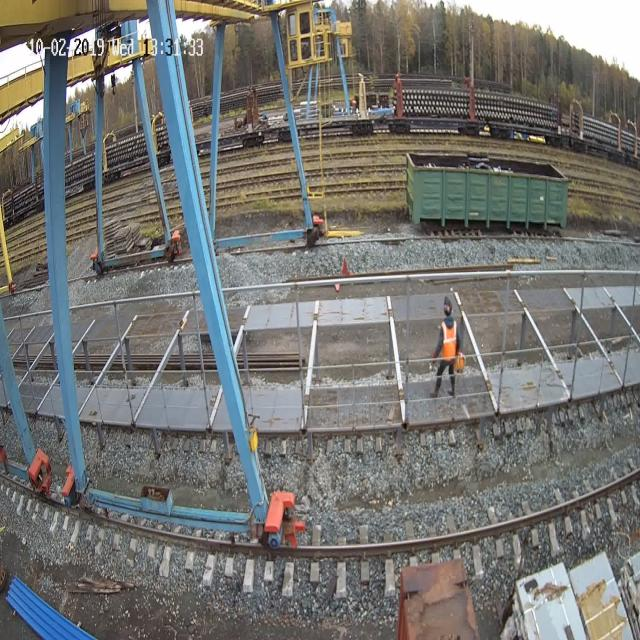Head: (444, 296, 452, 316)
Person: (428, 292, 464, 414)
